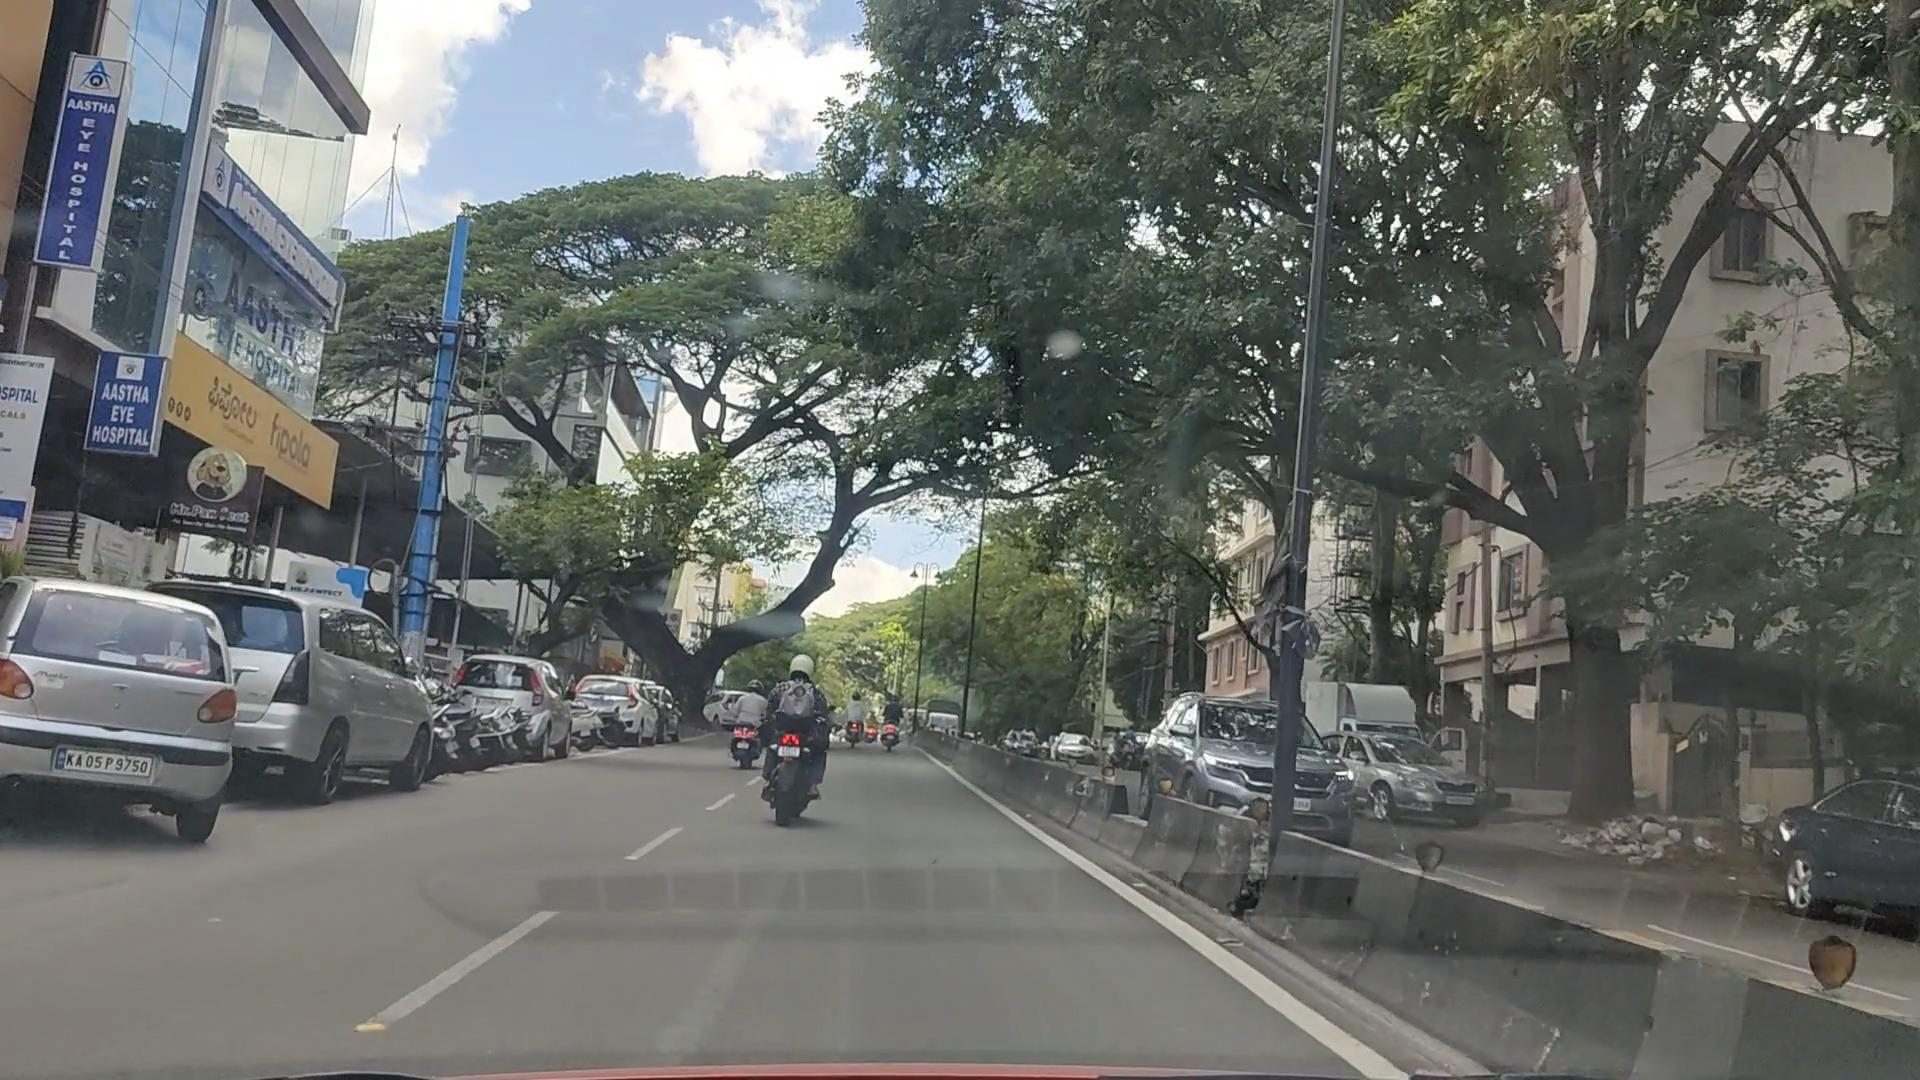LMV: (25, 597, 265, 856), (748, 613, 861, 852)
